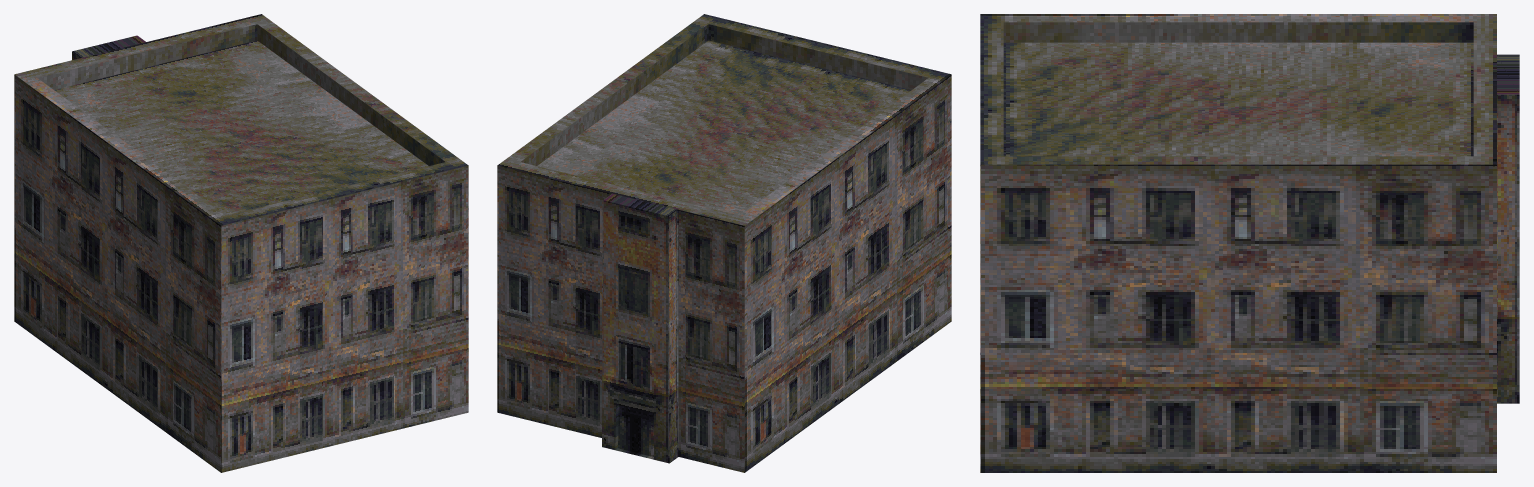
The model's file is gritty_abandoned_soviet-style_apartment_psx (1).glb.
3 views of the same model, side by side, from view 1: azimuth 30°, elevation 25°; view 2: azimuth 150°, elevation 25°; view 3: azimuth 270°, elevation 25° (orthographic). The views are drawn at different scales.
Visible parts, largest first — view 1: pCube12; view 2: pCube12; view 3: pCube12.
Boxes of the visible parts, bbox=[...] form: pCube12: bbox=[14, 14, 468, 472]; pCube12: bbox=[497, 14, 951, 472]; pCube12: bbox=[980, 14, 1519, 472].
Size of the model in its own units: 1.28 by 1.23 by 1.94.
3 materials, 3 textured.
